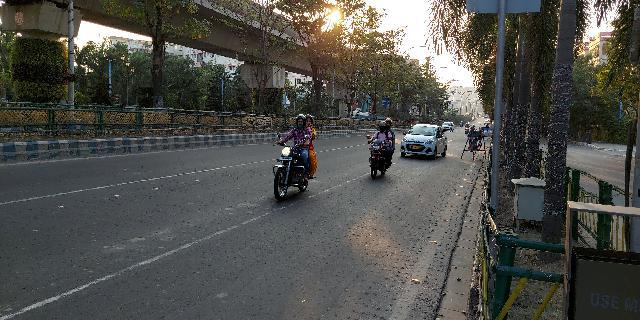Car: (399, 121, 449, 162)
Motorbike: (270, 110, 318, 202), (364, 117, 396, 181)
